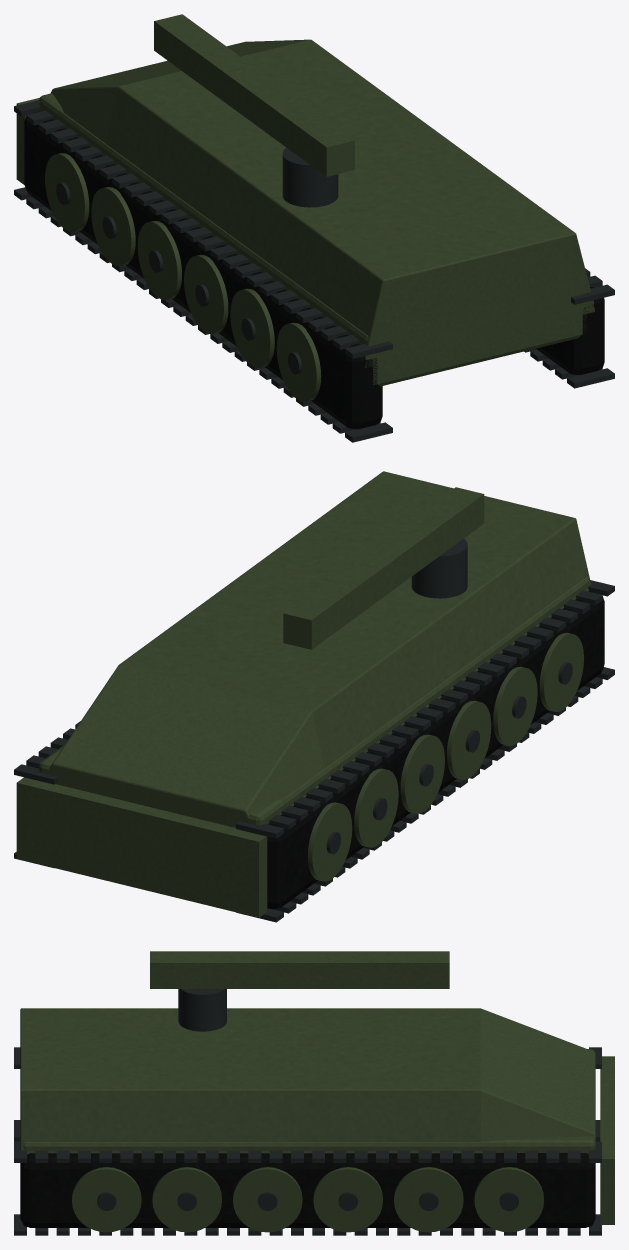
The model's file is k1arv.glb.
The picture shows the model from 3 angles, top to bottom: view 1: azimuth 30°, elevation 25°; view 2: azimuth 150°, elevation 25°; view 3: azimuth 270°, elevation 25°; orthographic projection. The views are drawn at different scales.
Visible parts, largest first — view 1: Hull_MVP olive paint, RunningGear_MVP olive paint, RunningGear_MVP rubber, RunningGear_MVP exposed metal, RecoveryCrane_MVP olive paint, RecoveryCrane_MVP exposed metal; view 2: Hull_MVP olive paint, RunningGear_MVP olive paint, RunningGear_MVP exposed metal, RunningGear_MVP rubber, RecoveryCrane_MVP olive paint, RecoveryCrane_MVP exposed metal; view 3: Hull_MVP olive paint, RunningGear_MVP olive paint, RunningGear_MVP rubber, RecoveryCrane_MVP olive paint, RunningGear_MVP exposed metal, RecoveryCrane_MVP exposed metal.
Boxes of the visible parts, x1,y1,x2,y2 form: Hull_MVP olive paint: [16, 39, 595, 386]; RunningGear_MVP olive paint: [45, 153, 321, 401]; RunningGear_MVP rubber: [24, 111, 604, 429]; RunningGear_MVP exposed metal: [14, 100, 614, 442]; RecoveryCrane_MVP olive paint: [154, 14, 354, 176]; RecoveryCrane_MVP exposed metal: [282, 147, 338, 207]; Hull_MVP olive paint: [16, 471, 590, 917]; RunningGear_MVP olive paint: [307, 632, 583, 881]; RunningGear_MVP exposed metal: [14, 580, 614, 922]; RunningGear_MVP rubber: [35, 591, 604, 908]; RecoveryCrane_MVP olive paint: [283, 487, 484, 649]; RecoveryCrane_MVP exposed metal: [411, 538, 467, 598]; Hull_MVP olive paint: [20, 1008, 614, 1224]; RunningGear_MVP olive paint: [72, 1167, 543, 1232]; RunningGear_MVP rubber: [20, 1153, 595, 1227]; RecoveryCrane_MVP olive paint: [150, 951, 449, 988]; RunningGear_MVP exposed metal: [14, 1047, 601, 1235]; RecoveryCrane_MVP exposed metal: [178, 989, 226, 1031].
Bounding box in the file's own units: 3.39 × 2.66 × 7.42.
3 materials, 3 textured.
